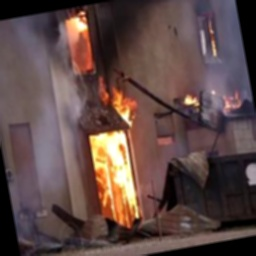fire: (87, 128, 144, 223), (80, 66, 136, 127), (61, 15, 97, 73)
